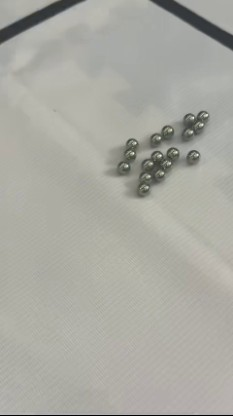ironball: (161, 122, 178, 138), (135, 182, 153, 197), (152, 166, 168, 182), (137, 168, 155, 182), (122, 148, 138, 162), (166, 146, 180, 161), (121, 133, 137, 146), (182, 111, 196, 125), (186, 149, 200, 163), (149, 133, 163, 146), (192, 120, 206, 132), (113, 162, 129, 172), (196, 107, 208, 120), (180, 126, 192, 139), (140, 159, 153, 171), (151, 151, 163, 162), (161, 158, 172, 167)
